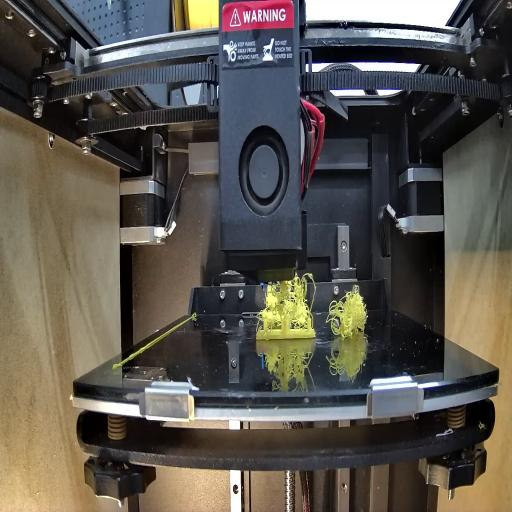spaghetti: (258, 270, 316, 328), (328, 283, 368, 334)
